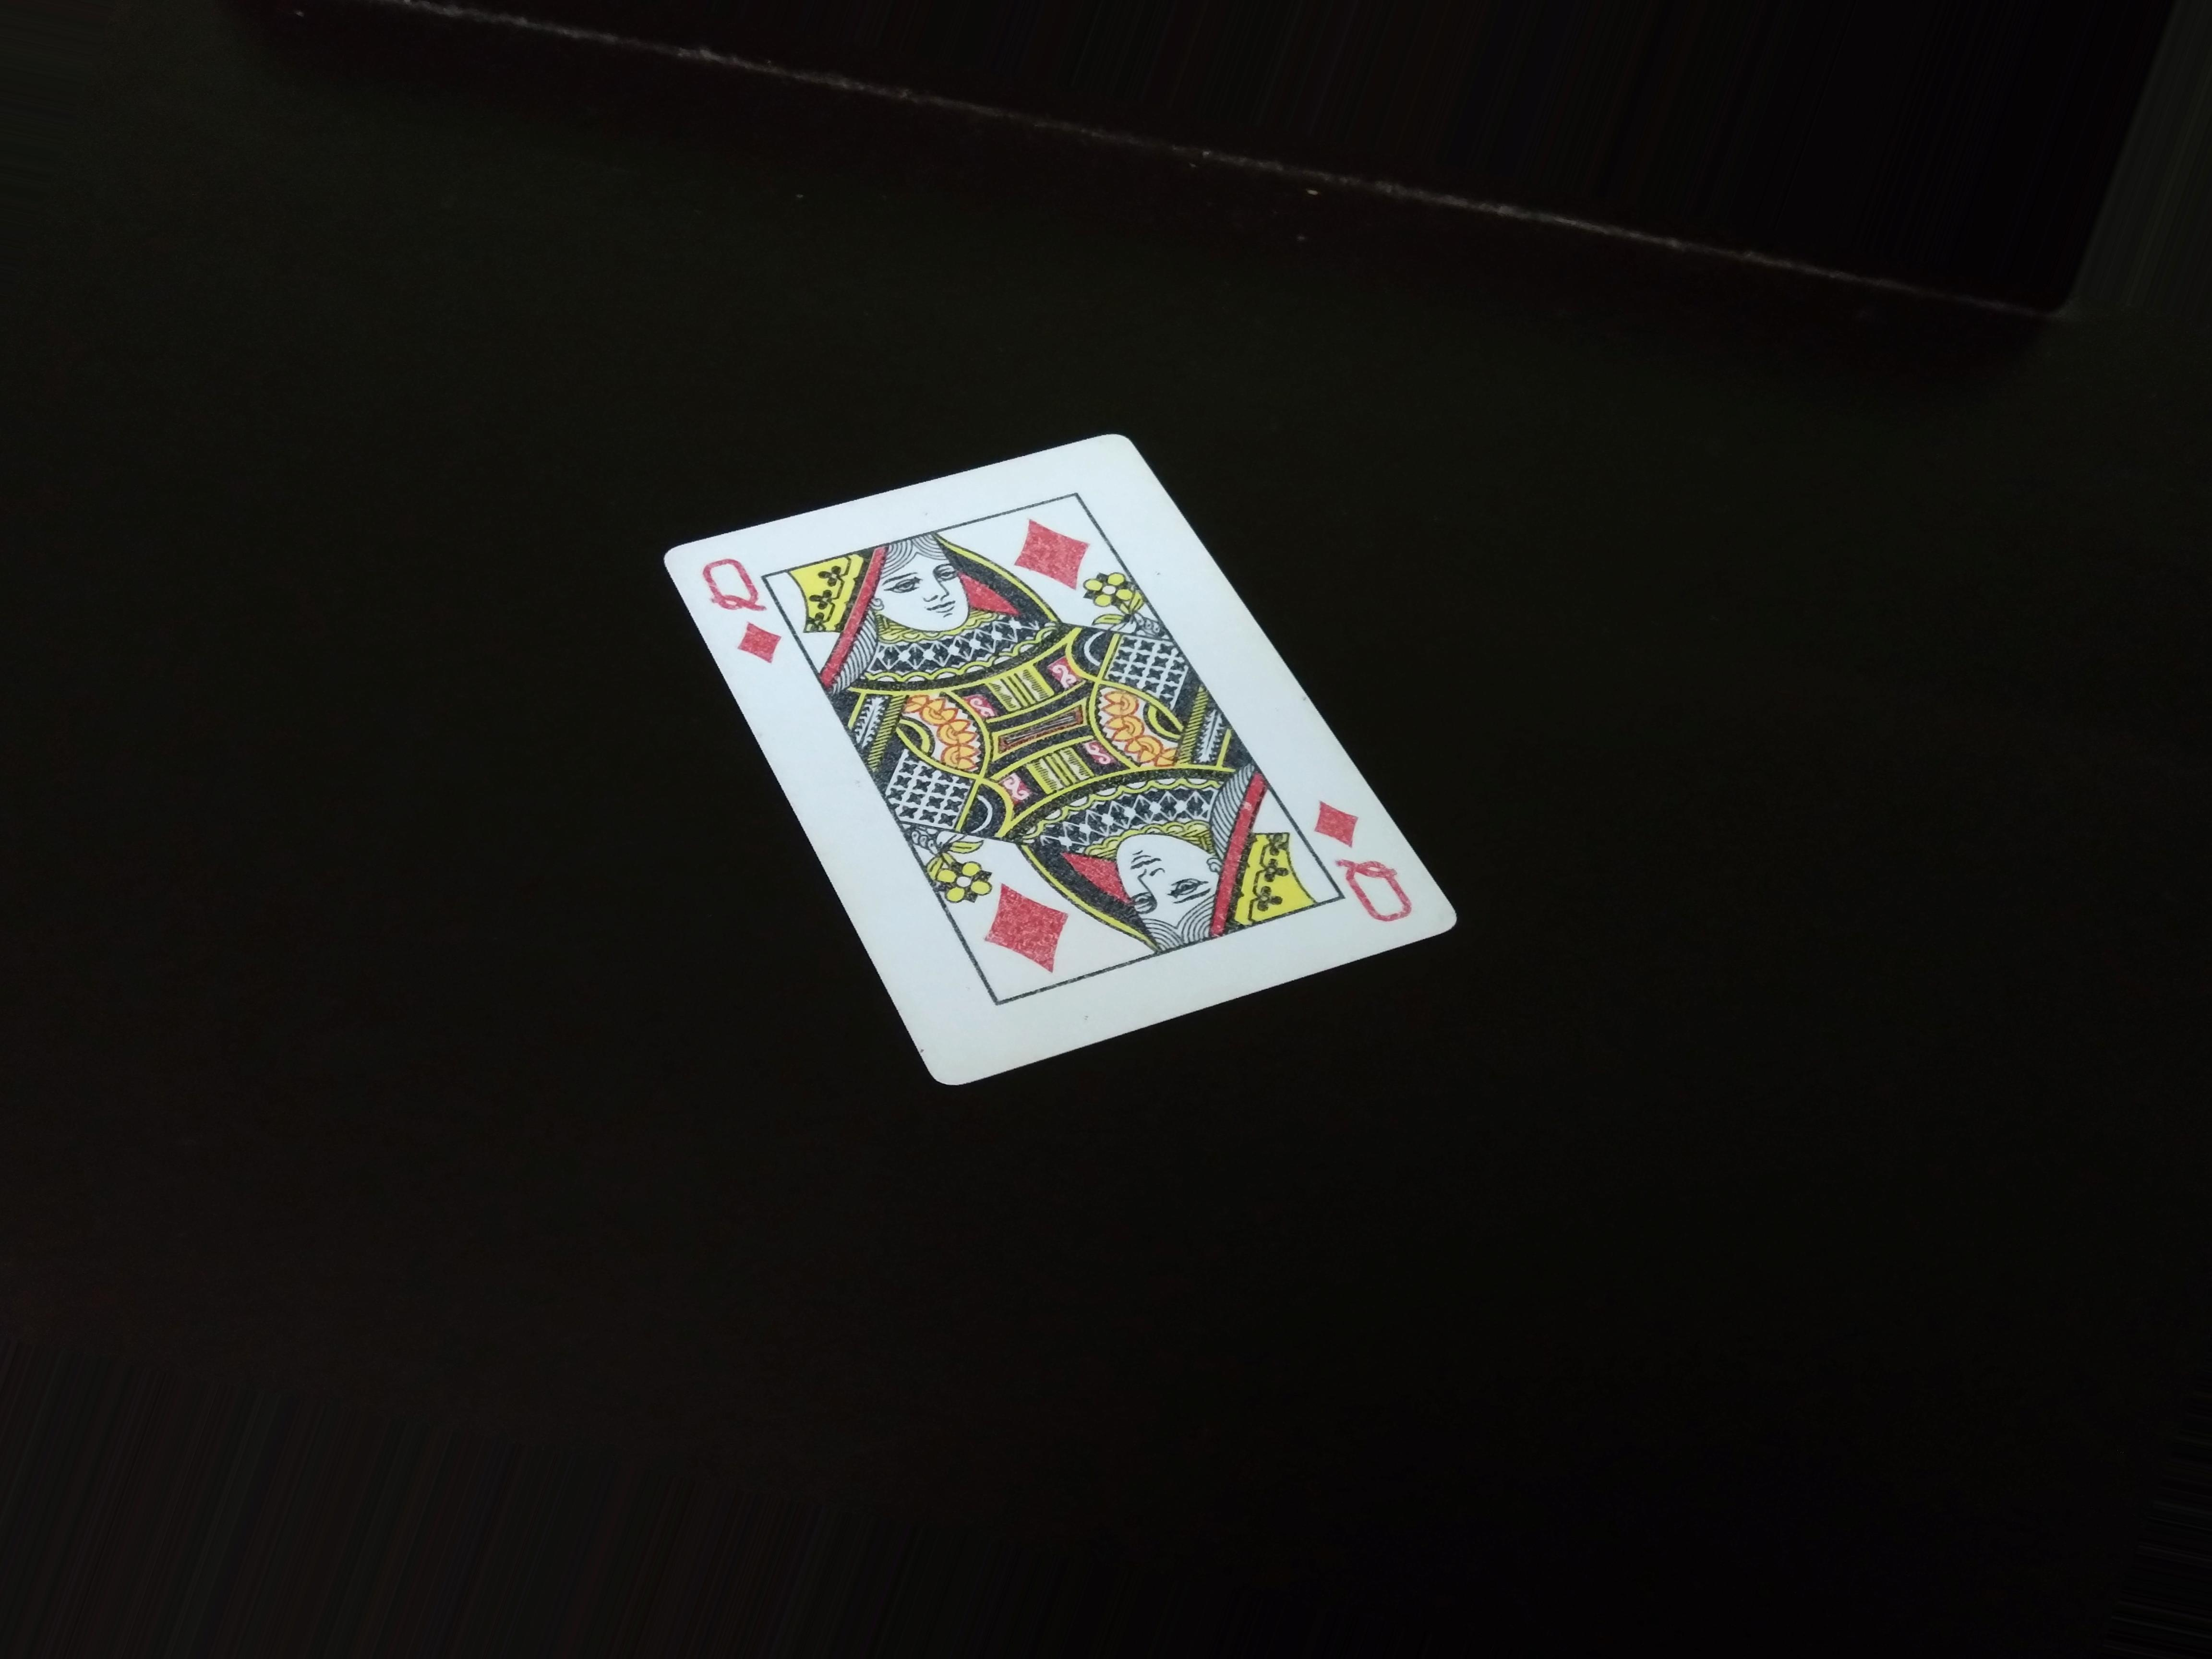QD: (700, 526, 789, 681)
